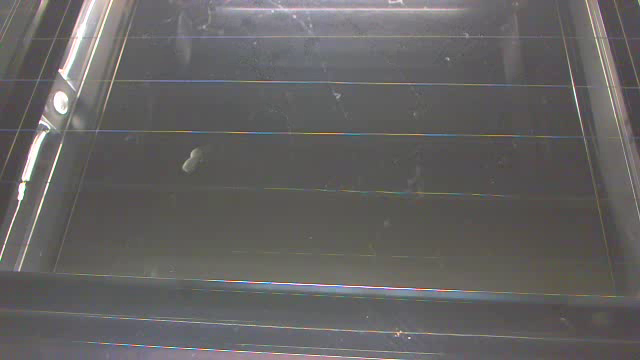alpha: (183, 147, 202, 173)
